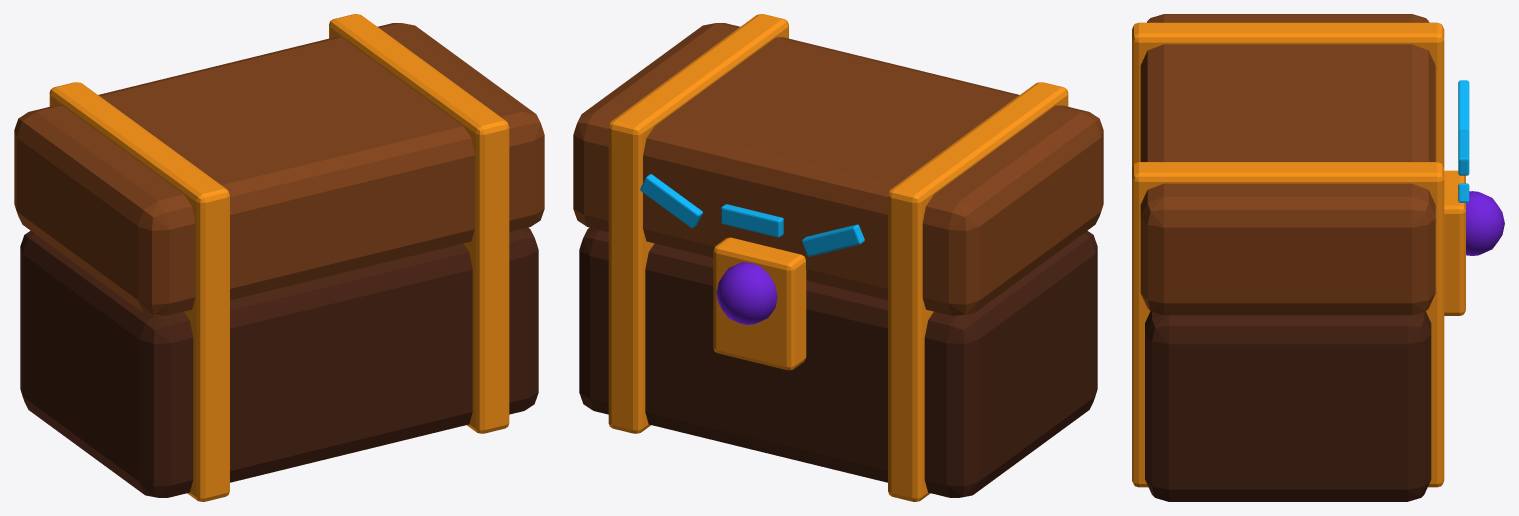
Rendered from arcane_loot_chest.obj.
3 renders of one model, left to right at view 1: azimuth 30°, elevation 25°; view 2: azimuth 150°, elevation 25°; view 3: azimuth 270°, elevation 25°, orthographic. The views are drawn at different scales.
Parts seen in each view (by area): view 1: arpg_chest_lid_M_wood, arpg_chest_base_M_brown, arpg_chest_band_0_M_gold, arpg_chest_band_1_M_gold; view 2: arpg_chest_lid_M_wood, arpg_chest_base_M_brown, arpg_chest_band_0_M_gold, arpg_chest_band_1_M_gold, arpg_chest_lock_M_gold, arpg_chest_gem_M_purple, arpg_chest_rune_0_M_cyan, arpg_chest_rune_1_M_cyan, arpg_chest_rune_2_M_cyan; view 3: arpg_chest_lid_M_wood, arpg_chest_base_M_brown, arpg_chest_band_0_M_gold, arpg_chest_band_1_M_gold, arpg_chest_lock_M_gold, arpg_chest_gem_M_purple, arpg_chest_rune_2_M_cyan, arpg_chest_rune_1_M_cyan.
Boxes of the visible parts, x1,y1,x2,y2 form: arpg_chest_lid_M_wood: (14,23,544,315); arpg_chest_base_M_brown: (20,227,538,497); arpg_chest_band_0_M_gold: (329,14,509,433); arpg_chest_band_1_M_gold: (49,82,229,501); arpg_chest_lid_M_wood: (573,23,1103,315); arpg_chest_base_M_brown: (579,227,1097,497); arpg_chest_band_0_M_gold: (608,14,788,433); arpg_chest_band_1_M_gold: (888,82,1068,501); arpg_chest_lock_M_gold: (713,237,806,370); arpg_chest_gem_M_purple: (716,262,777,324); arpg_chest_rune_0_M_cyan: (640,174,702,228); arpg_chest_rune_1_M_cyan: (721,204,783,237); arpg_chest_rune_2_M_cyan: (802,224,864,256); arpg_chest_lid_M_wood: (1140,14,1435,315); arpg_chest_base_M_brown: (1145,311,1431,501); arpg_chest_band_0_M_gold: (1132,162,1444,487); arpg_chest_band_1_M_gold: (1132,22,1444,167); arpg_chest_lock_M_gold: (1444,170,1465,315); arpg_chest_gem_M_purple: (1466,191,1504,255); arpg_chest_rune_2_M_cyan: (1458,80,1469,131); arpg_chest_rune_1_M_cyan: (1458,130,1469,175).
Size of the model in its own units: 1.1 by 0.8 by 0.86.
